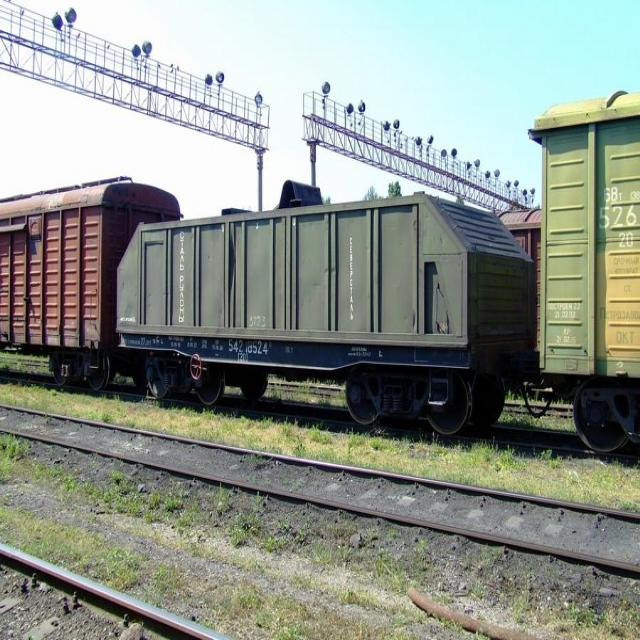boxcar: (529, 81, 640, 467), (0, 176, 181, 396)
